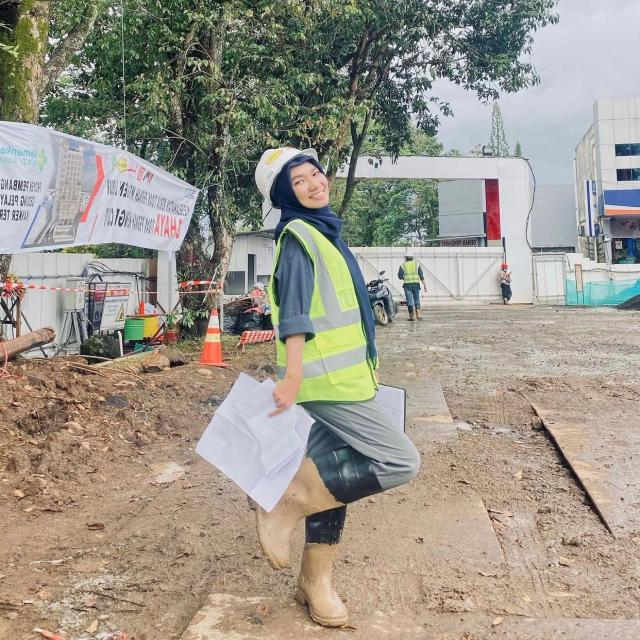safetyhelmet: (256, 137, 334, 226)
